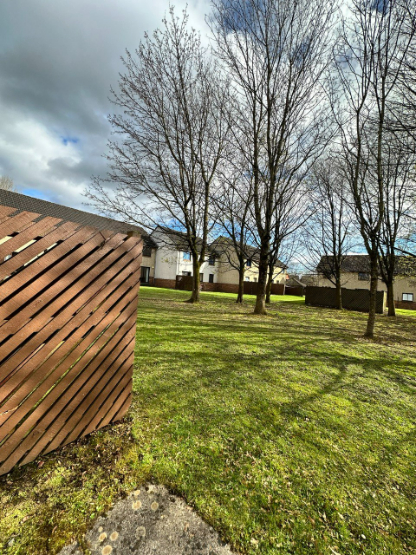tree: (99, 0, 225, 300), (213, 0, 326, 289), (331, 0, 407, 341)
